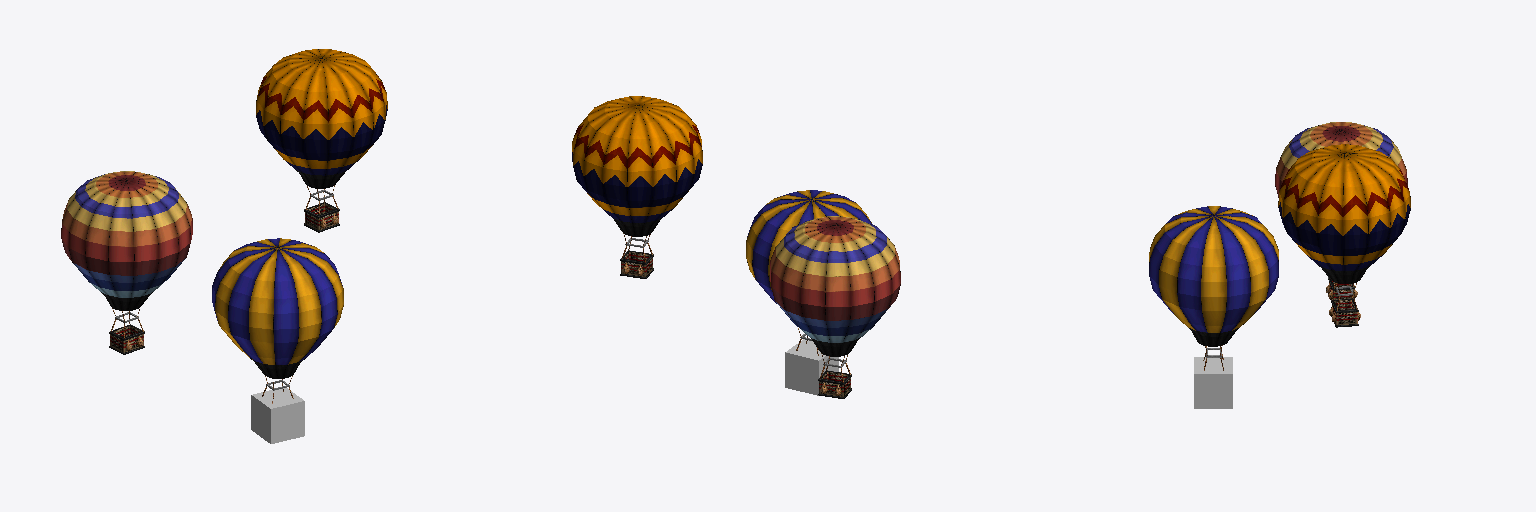
3 views of the same model, side by side, from view 1: azimuth 30°, elevation 25°; view 2: azimuth 150°, elevation 25°; view 3: azimuth 270°, elevation 25° (orthographic).
Parts seen in each view (by area): view 1: ball_baloon_0, ball.001_baloon.001_0, ball.002_baloon.002_0, Cube, basket.002_baloon_0, basket.001_baloon_0; view 2: ball.002_baloon.002_0, ball.001_baloon.001_0, ball_baloon_0, Cube, basket.001_baloon_0, basket.002_baloon_0; view 3: ball.002_baloon.002_0, ball_baloon_0, ball.001_baloon.001_0, Cube, basket.002_baloon_0.
Boxes of the visible parts, x1,y1,x2,y2 form: ball_baloon_0: [212, 238, 343, 403]; ball.001_baloon.001_0: [61, 171, 192, 338]; ball.002_baloon.002_0: [256, 49, 387, 213]; Cube: [251, 388, 304, 443]; basket.002_baloon_0: [304, 202, 339, 232]; basket.001_baloon_0: [109, 324, 144, 354]; ball.002_baloon.002_0: [572, 96, 702, 262]; ball.001_baloon.001_0: [770, 216, 900, 382]; ball_baloon_0: [746, 190, 871, 355]; Cube: [785, 339, 838, 395]; basket.001_baloon_0: [818, 370, 851, 398]; basket.002_baloon_0: [620, 250, 653, 278]; ball.002_baloon.002_0: [1278, 144, 1410, 310]; ball_baloon_0: [1149, 206, 1278, 370]; ball.001_baloon.001_0: [1275, 122, 1407, 288]; Cube: [1194, 357, 1232, 408]; basket.002_baloon_0: [1329, 298, 1360, 327].
Size of the model in its own units: 18.41 by 16.98 by 13.42.
Materials: 4 (3 with a texture image).